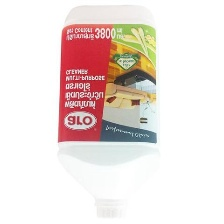cleaning_solution: (55, 3, 161, 220)
